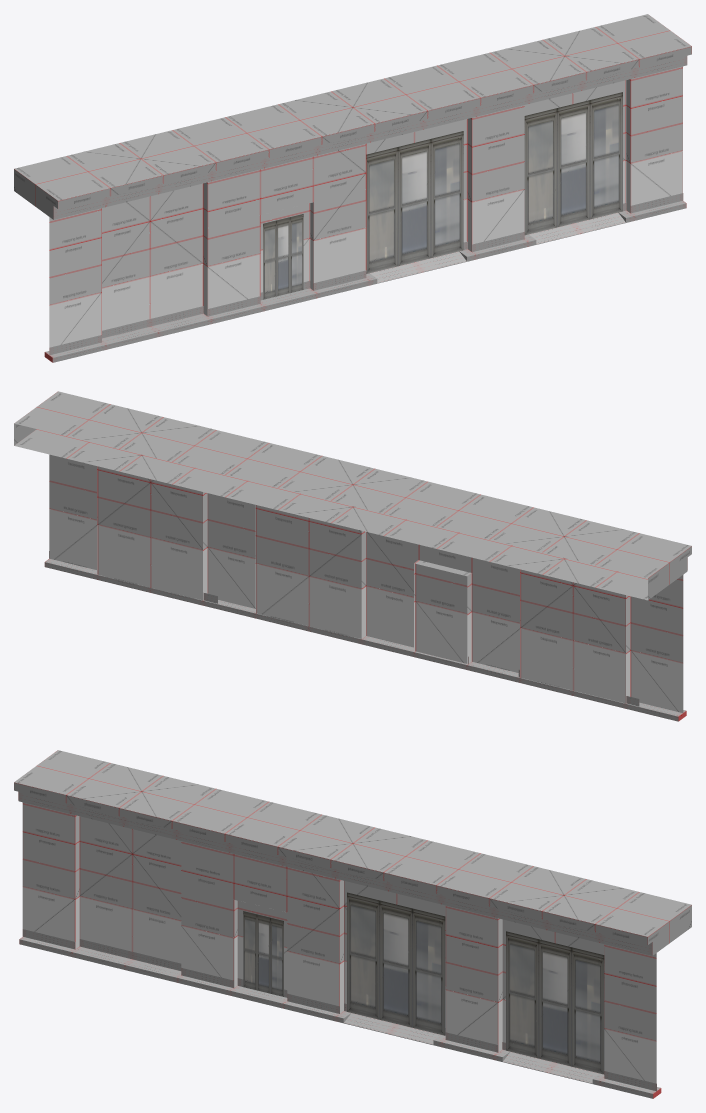
The picture shows the model from 3 angles, top to bottom: view 1: azimuth 30°, elevation 25°; view 2: azimuth 150°, elevation 25°; view 3: azimuth 330°, elevation 25°; orthographic projection.
Parts seen in each view (by area): view 1: S_00_base_3x_e; view 2: S_00_base_3x_e; view 3: S_00_base_3x_e.
Boxes of the visible parts, x1,y1,x2,y2 form: S_00_base_3x_e: (14, 14, 691, 362); S_00_base_3x_e: (14, 391, 691, 721); S_00_base_3x_e: (14, 750, 691, 1098).
Size of the model in its own units: 60.02 by 7.23 by 15.
